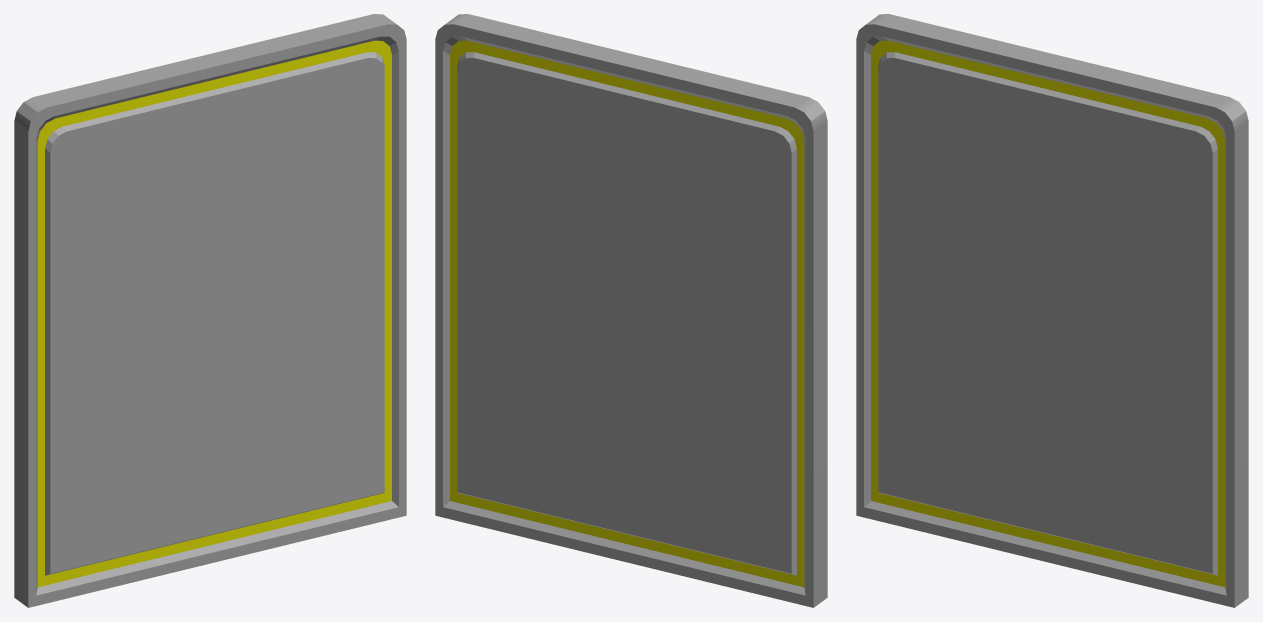
The model's file is Door_02.fbx.
3 views of the same model, side by side, from view 1: azimuth 30°, elevation 25°; view 2: azimuth 150°, elevation 25°; view 3: azimuth 330°, elevation 25° (orthographic).
Visible parts, largest first — view 1: Door_02; view 2: Door_02; view 3: Door_02.
Boxes of the visible parts, x1,y1,x2,y2 form: Door_02: (14, 14, 406, 607); Door_02: (435, 14, 827, 607); Door_02: (856, 14, 1248, 607).
Bounding box in the file's own units: 184 × 230 × 11.91.
